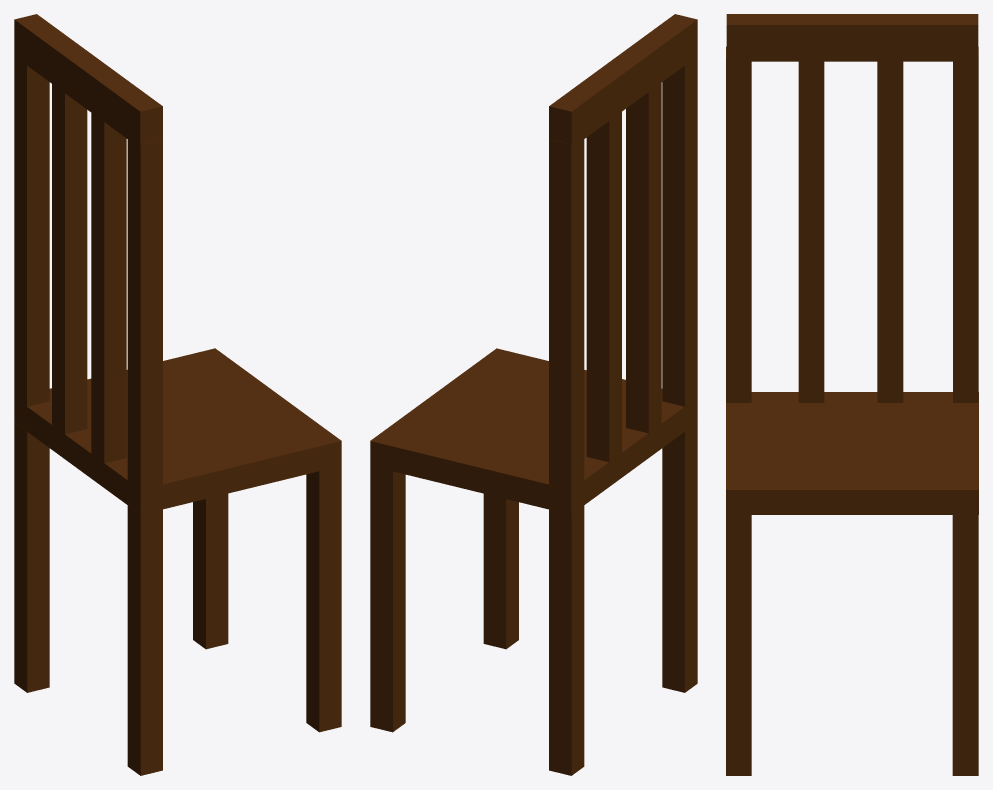
File: chair_e66068a7b177.glb
3 views of the same model, side by side, from view 1: azimuth 30°, elevation 25°; view 2: azimuth 150°, elevation 25°; view 3: azimuth 270°, elevation 25° (orthographic).
Parts seen in each view (by area): view 1: Cube.004_6, Cube.005_7, Cube.008_10, Cube.007_9, Cube.006_8, Cube_0, Cube.001_3, Cube.003_4, Cube.009_11, Cube.002_5; view 2: Cube.004_6, Cube.006_8, Cube.008_10, Cube.005_7, Cube.007_9, Cube.003_4, Cube.002_5, Cube_0, Cube.009_11, Cube.001_3; view 3: Cube.004_6, Cube.009_11, Cube.007_9, Cube.008_10, Cube.005_7, Cube.006_8, Cube.002_5, Cube.001_3.
Part boxes in pixels (x1,y1,x2,y2): Cube.004_6: (14,348,341,513); Cube.005_7: (127,135,162,490); Cube.008_10: (91,109,126,463); Cube.007_9: (52,80,87,435); Cube.006_8: (14,53,49,407); Cube_0: (127,504,162,775); Cube.001_3: (306,464,341,732); Cube.003_4: (14,421,49,692); Cube.009_11: (14,14,162,144); Cube.002_5: (193,493,228,649); Cube.004_6: (370,348,697,514); Cube.006_8: (549,135,584,490); Cube.008_10: (626,79,661,434); Cube.005_7: (662,52,697,407); Cube.007_9: (586,108,621,463); Cube.003_4: (549,504,584,775); Cube.002_5: (370,466,405,732); Cube_0: (662,421,697,692); Cube.009_11: (549,14,697,146); Cube.001_3: (483,493,518,649); Cube.004_6: (726,392,978,514); Cube.009_11: (726,14,978,61); Cube.007_9: (877,57,903,402); Cube.008_10: (798,57,824,402); Cube.005_7: (726,46,751,402); Cube.006_8: (953,47,978,402); Cube.002_5: (952,513,978,775); Cube.001_3: (726,513,751,775).
Size of the model in its own units: 0.7155 by 2.26 by 0.7795.
